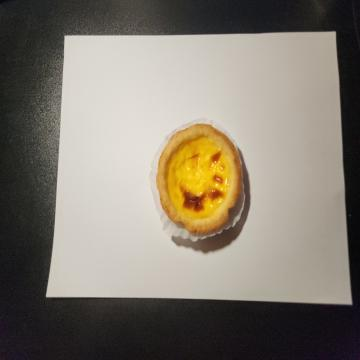EggTart: (155, 124, 242, 234)
